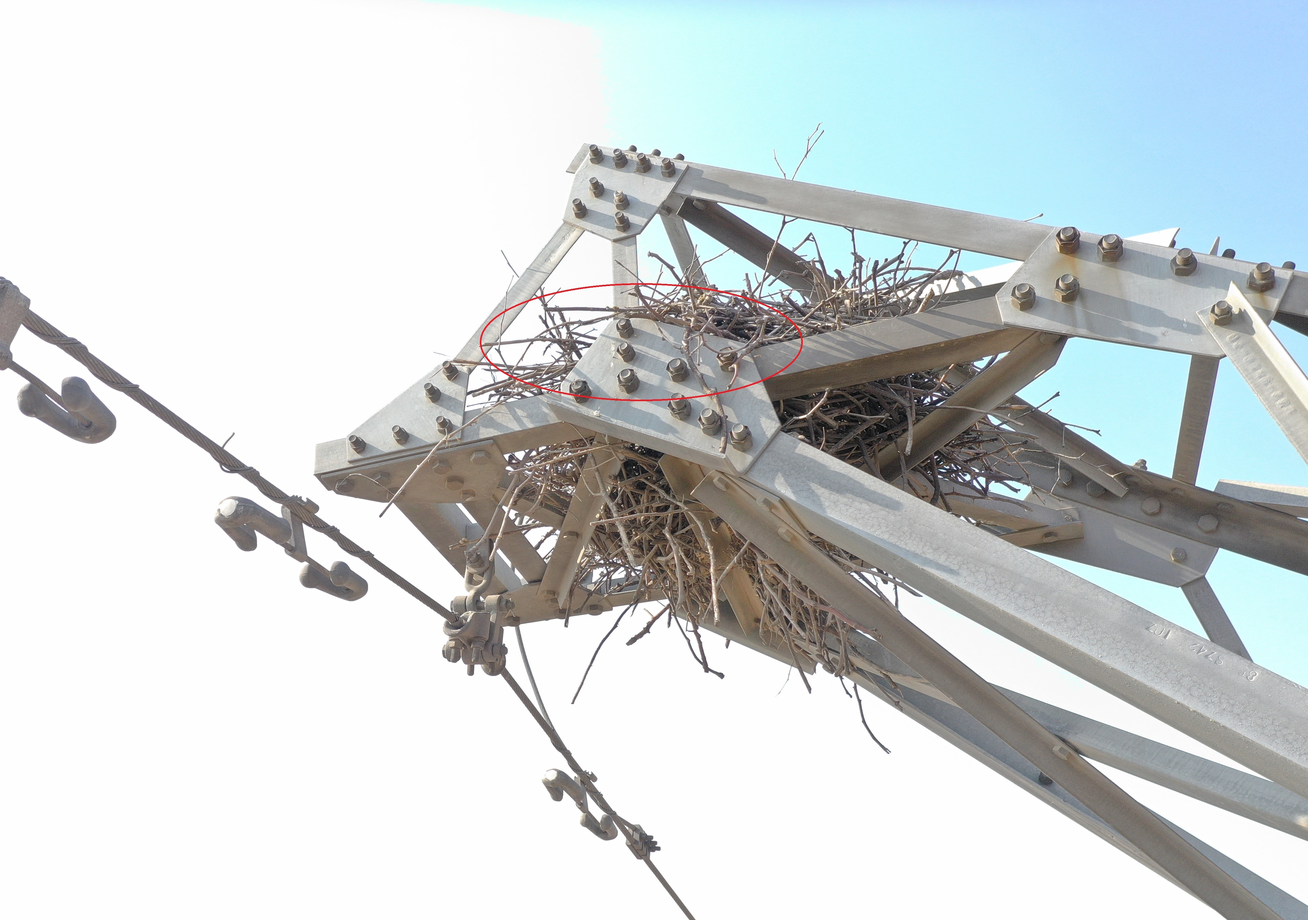damper: (0, 269, 125, 454), (208, 487, 377, 606), (532, 761, 629, 846)
